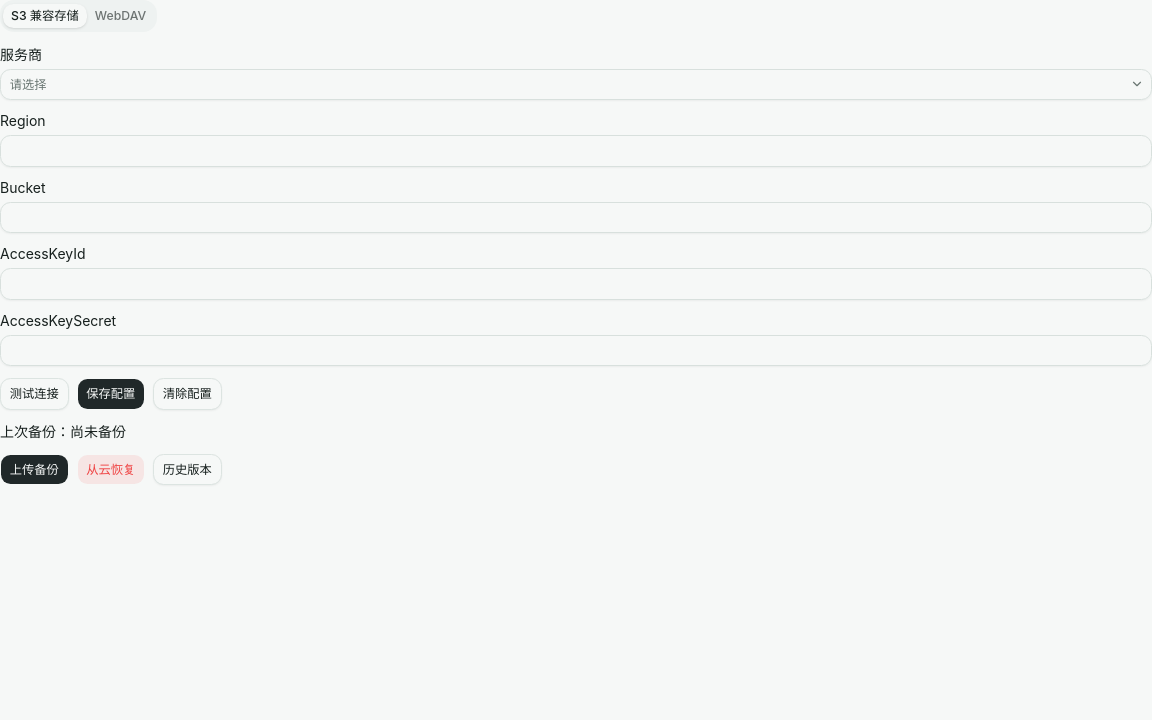
Test case: CloudBackupSection › v6 云端恢复预览显示元数据和全库覆盖范围
Click the button "从云恢复". click: (111, 469)
box: [76,454,145,485]
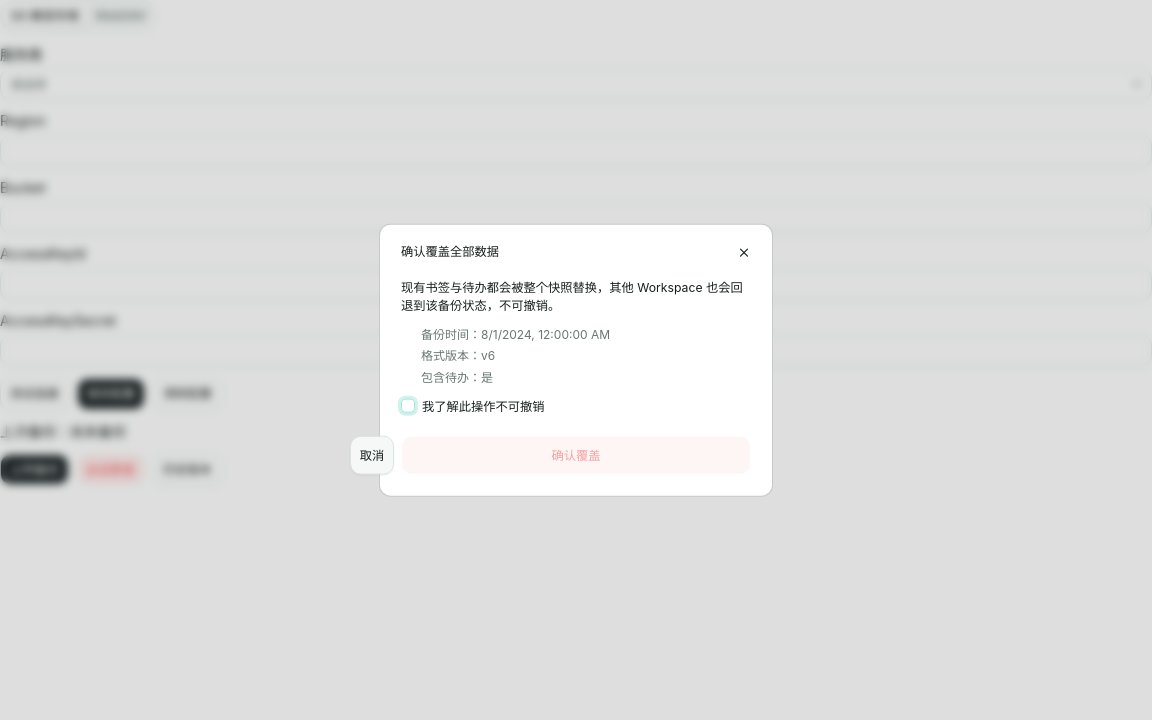
Expected: the list item "格式版本：v6" is shown, [421,348,495,363]
Expected: the list item "包含待办：是" is shown, [421,369,493,384]
Expected: the text "现有书签与待办都会被整个快照替换，其他 Workspace 也会回退到该备份状态，不可撤销。" is shown, [401,279,751,314]
